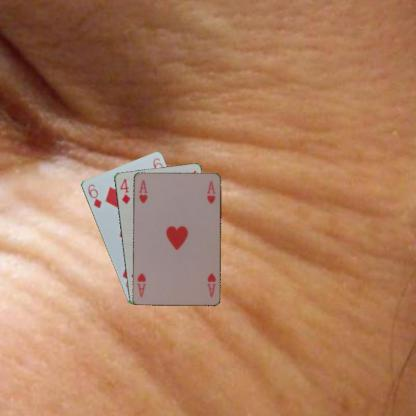4d: (117, 176, 131, 205)
6d: (85, 182, 103, 209)
Ah: (204, 270, 216, 298), (136, 177, 148, 204)
